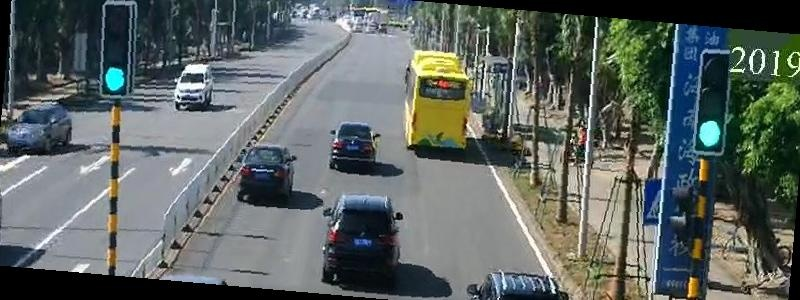green: (696, 119, 728, 153), (105, 66, 125, 97)
